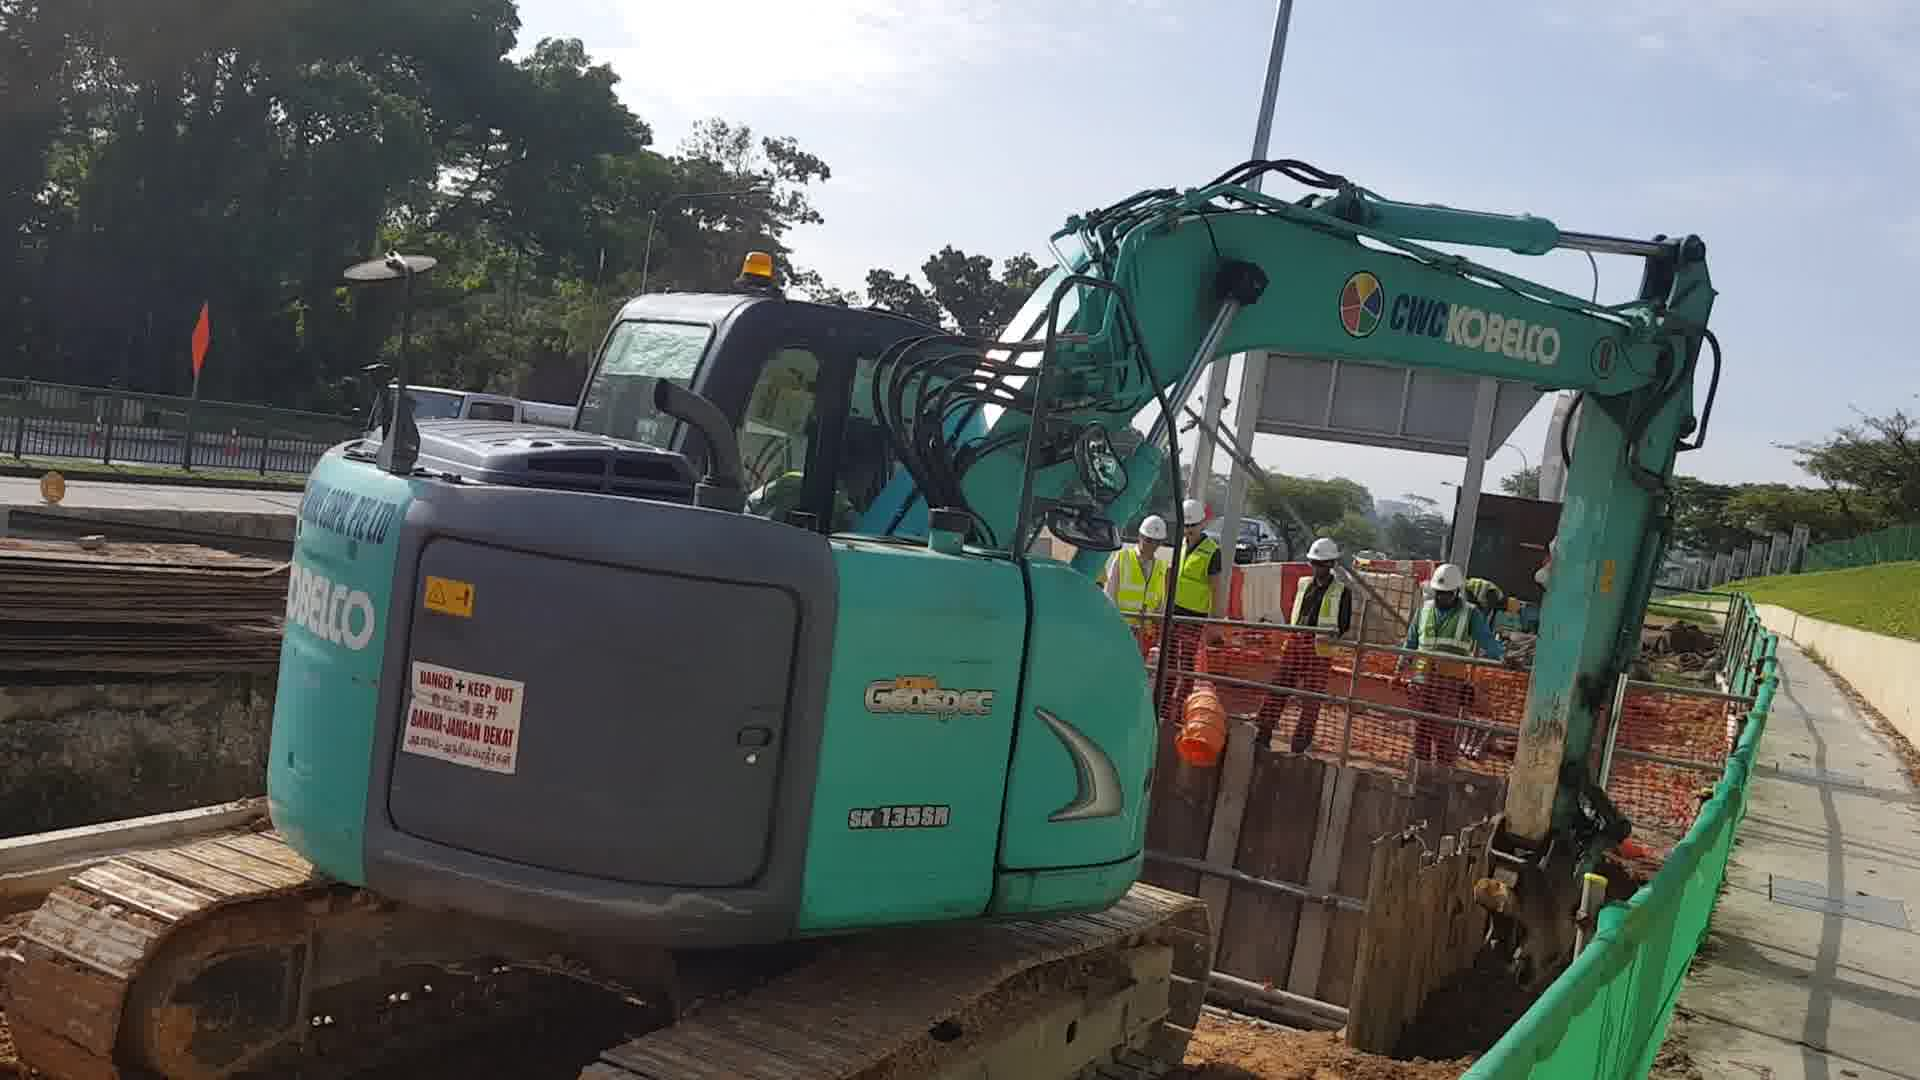cabin: (266, 252, 1153, 923)
forearm: (1506, 233, 1720, 814)
upperarm: (848, 190, 1663, 538)
wheelbase: (5, 837, 1218, 1080)
